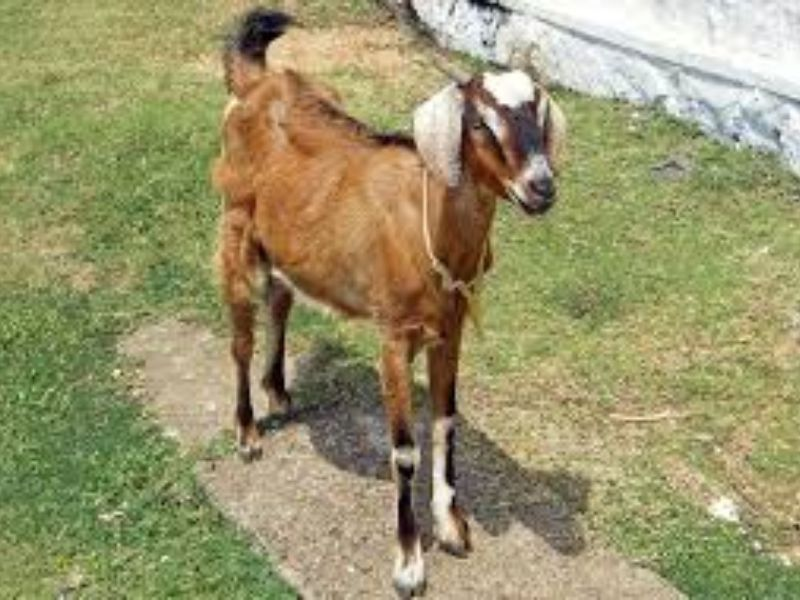goat: (215, 4, 579, 584)
